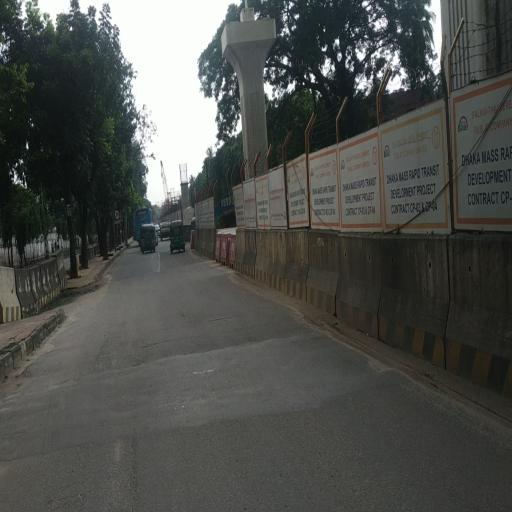pickup: (161, 220, 170, 243)
three wheelers (CNG): (170, 220, 187, 256), (141, 224, 158, 256)
